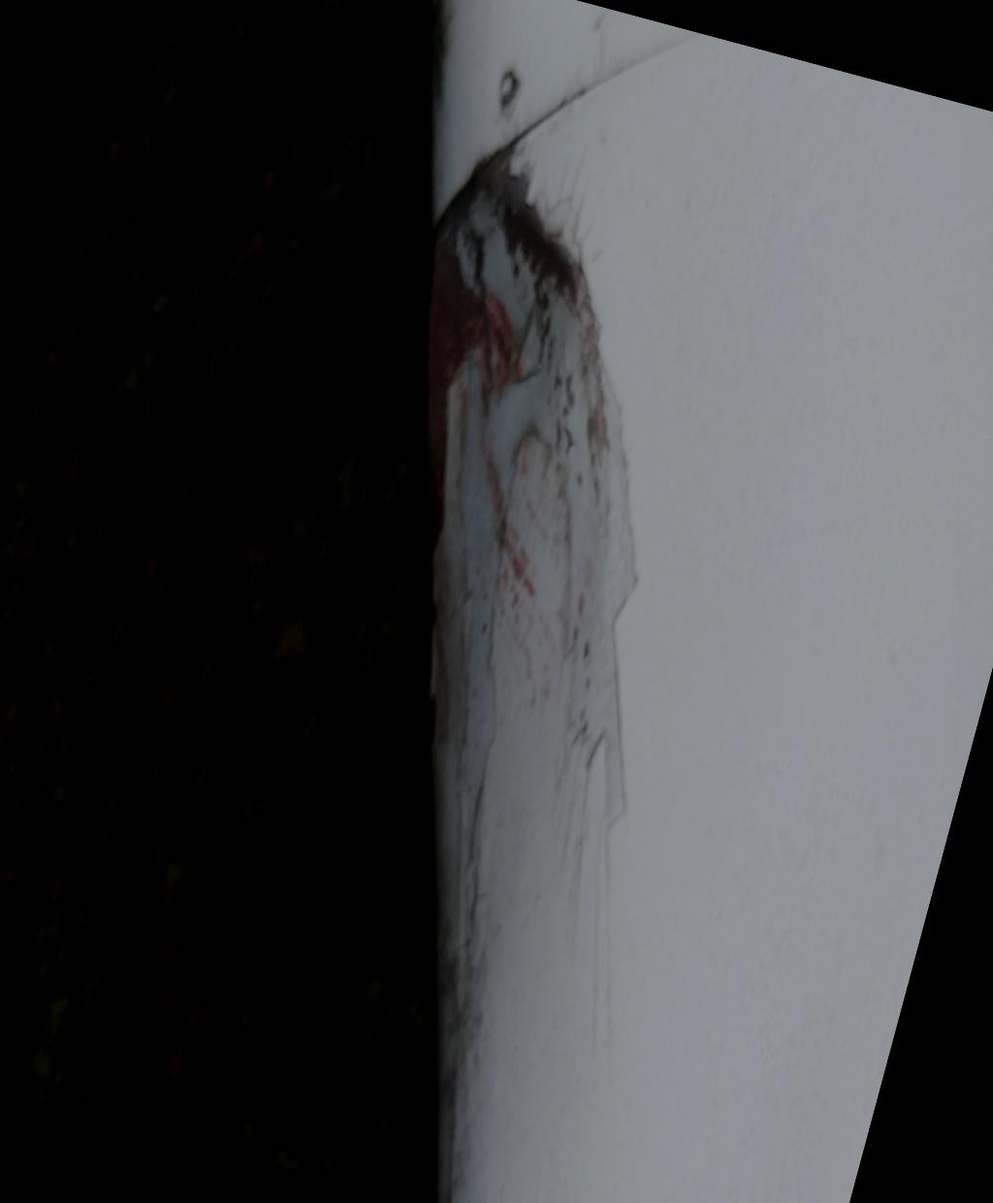corrosion: (395, 846, 777, 1203)
